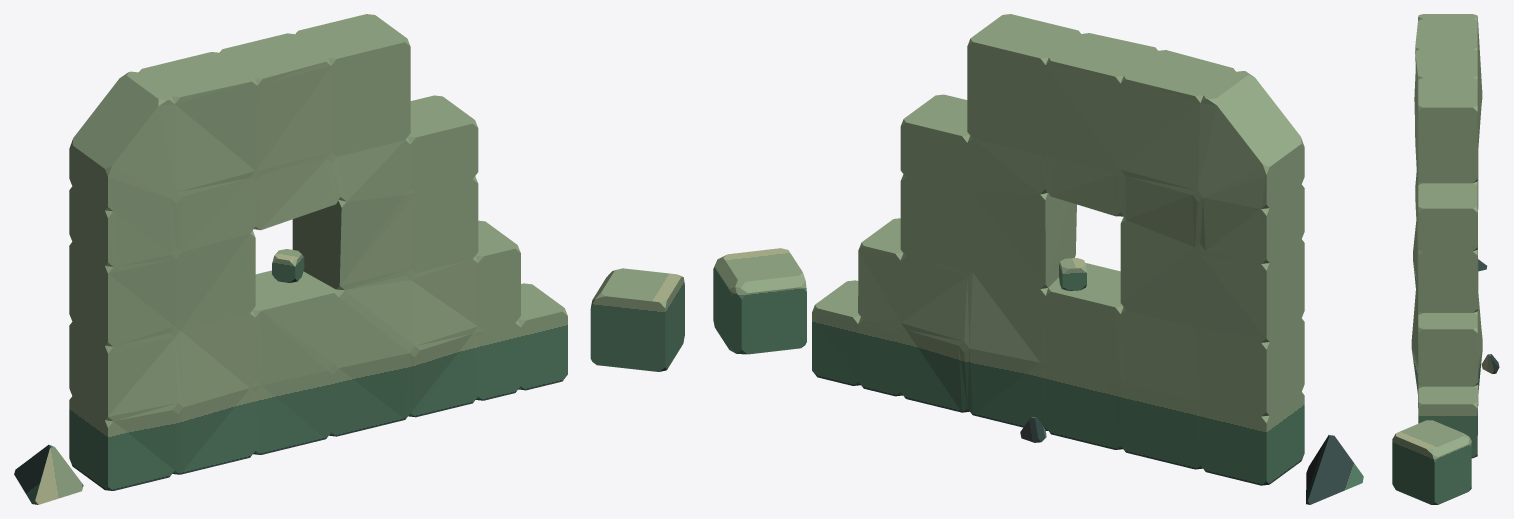
Rendered from Stand Alone Wall.003.fbx.
3 renders of one model, left to right at view 1: azimuth 30°, elevation 25°; view 2: azimuth 150°, elevation 25°; view 3: azimuth 270°, elevation 25°, orthographic. The views are drawn at different scales.
Visible parts, largest first — view 1: Stand Alone Wall.003; view 2: Stand Alone Wall.003; view 3: Stand Alone Wall.003.
Part boxes in pixels (x1,y1,x2,y2): Stand Alone Wall.003: [14, 14, 684, 504]; Stand Alone Wall.003: [713, 14, 1363, 504]; Stand Alone Wall.003: [1392, 14, 1499, 504].
Bounding box in the file's own units: 950 × 526 × 174.
